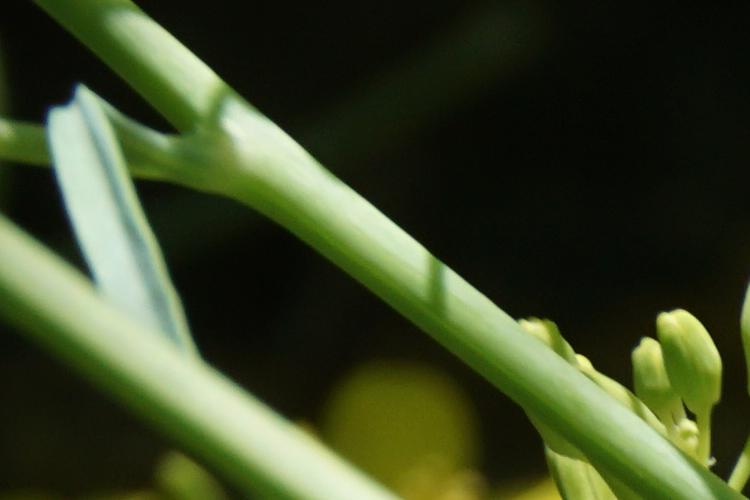bud: (662, 312, 724, 409), (616, 333, 682, 406)
